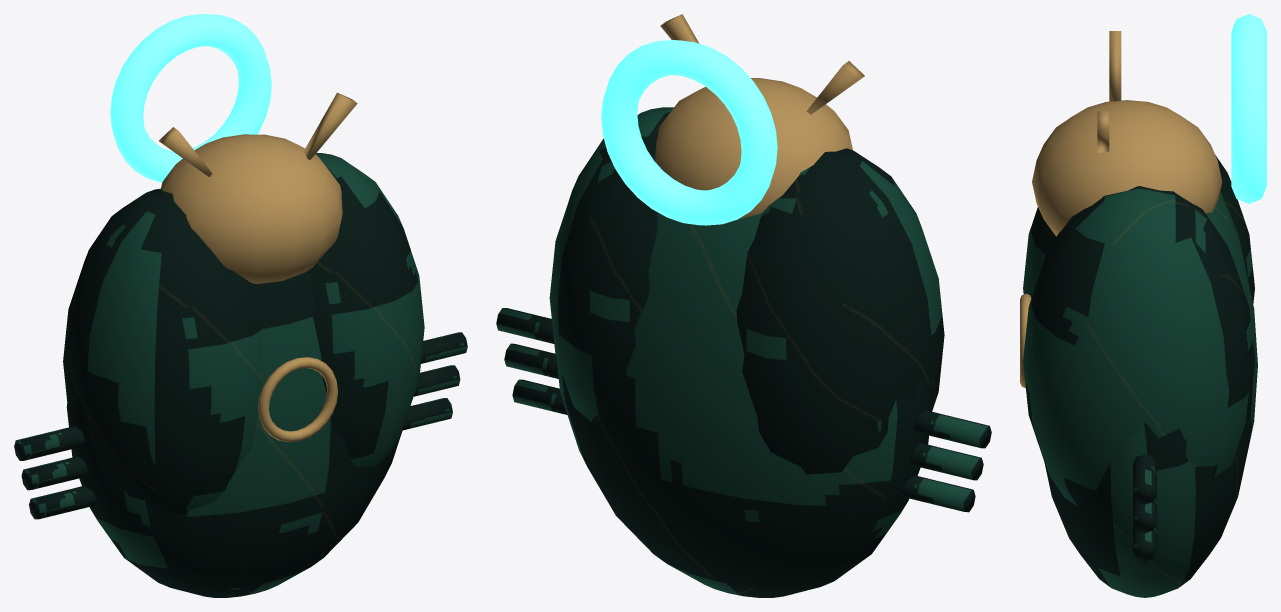
Rendered from scarab_amulet_pattern_jade.fbx.
3 renders of one model, left to right at view 1: azimuth 30°, elevation 25°; view 2: azimuth 150°, elevation 25°; view 3: azimuth 270°, elevation 25°, orthographic. The views are drawn at different scales.
Visible parts, largest first — view 1: Reviewed_scarab_amulet_Body.005, TH10_Scarab_Handle.008; view 2: Reviewed_scarab_amulet_Body.005, TH10_Scarab_Handle.008; view 3: Reviewed_scarab_amulet_Body.005, TH10_Scarab_Handle.008.
Boxes of the visible parts, left/top/right/bottom form: Reviewed_scarab_amulet_Body.005: left=14, top=92, right=467, bottom=597; TH10_Scarab_Handle.008: left=110, top=14, right=271, bottom=182; Reviewed_scarab_amulet_Body.005: left=496, top=14, right=991, bottom=597; TH10_Scarab_Handle.008: left=601, top=40, right=777, bottom=225; Reviewed_scarab_amulet_Body.005: left=1020, top=31, right=1257, bottom=597; TH10_Scarab_Handle.008: left=1231, top=14, right=1266, bottom=203.
Bounding box in the file's own units: 0.179 × 0.208 × 0.083.
3 materials, 1 textured.
